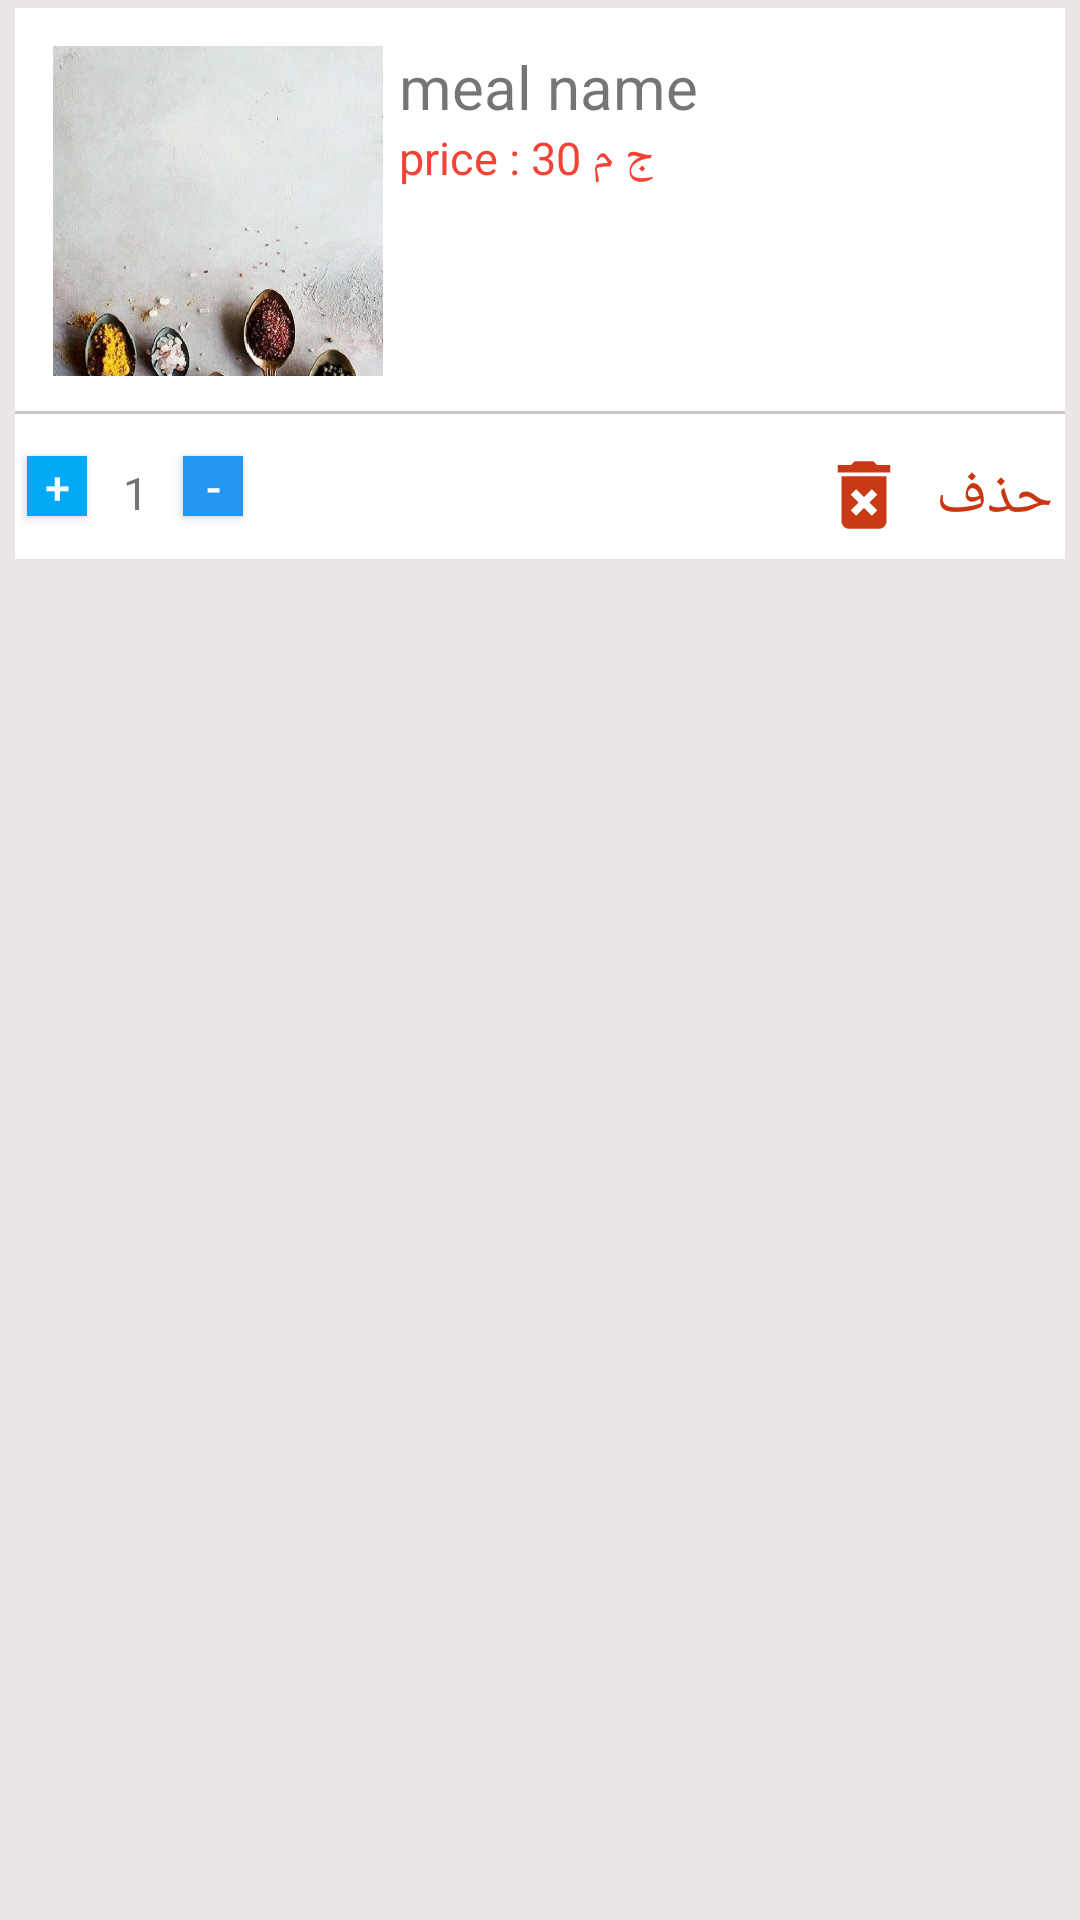

Locate icon controls on the screen. Image size 1080px x 1920px, boxes as (x1, y1, x2, y2).
delete forever: (837, 461, 891, 529)
